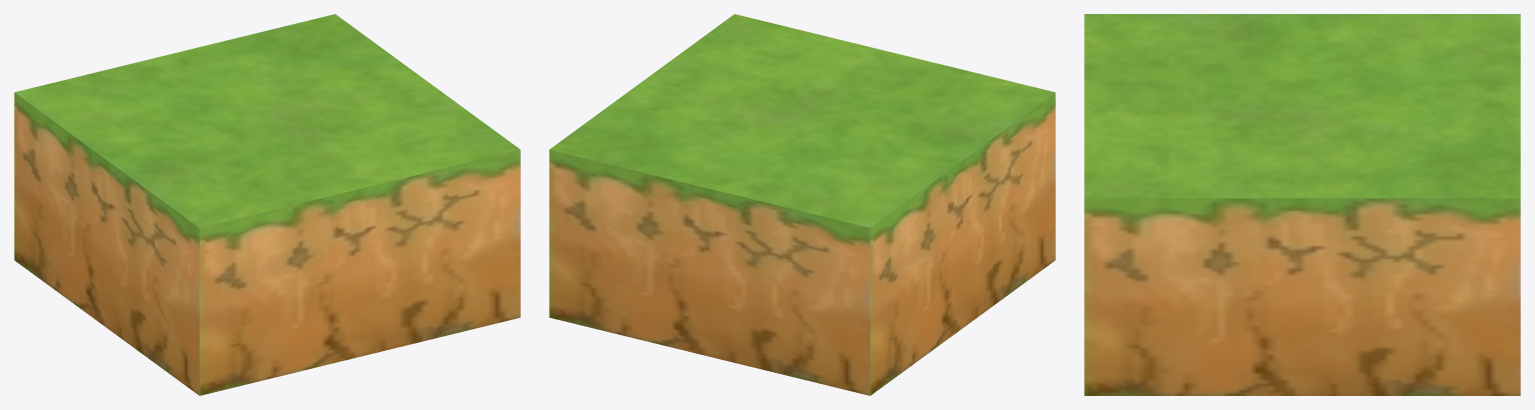
File: bound_tile_normal.glb
3 views of the same model, side by side, from view 1: azimuth 30°, elevation 25°; view 2: azimuth 150°, elevation 25°; view 3: azimuth 270°, elevation 25° (orthographic). The views are drawn at different scales.
Visible parts, largest first — view 1: bound_tile_normal; view 2: bound_tile_normal; view 3: bound_tile_normal.
Part boxes in pixels (x1,y1,x2,y2): bound_tile_normal: [14, 14, 520, 395]; bound_tile_normal: [549, 14, 1055, 395]; bound_tile_normal: [1084, 14, 1520, 395].
Bounding box in the file's own units: 2 × 1 × 2.
1 material, 1 textured.
